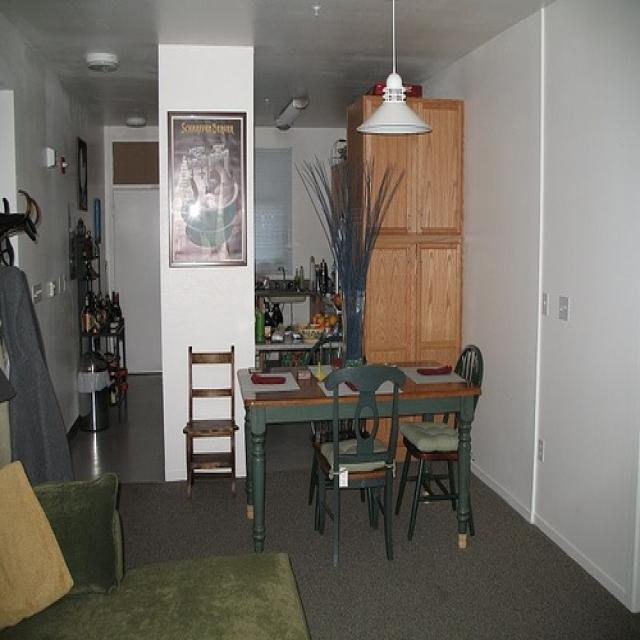chair: (314, 362, 407, 561), (402, 345, 485, 534), (182, 343, 238, 498)
diningtable: (236, 353, 476, 553)
sofa: (0, 464, 319, 638)
